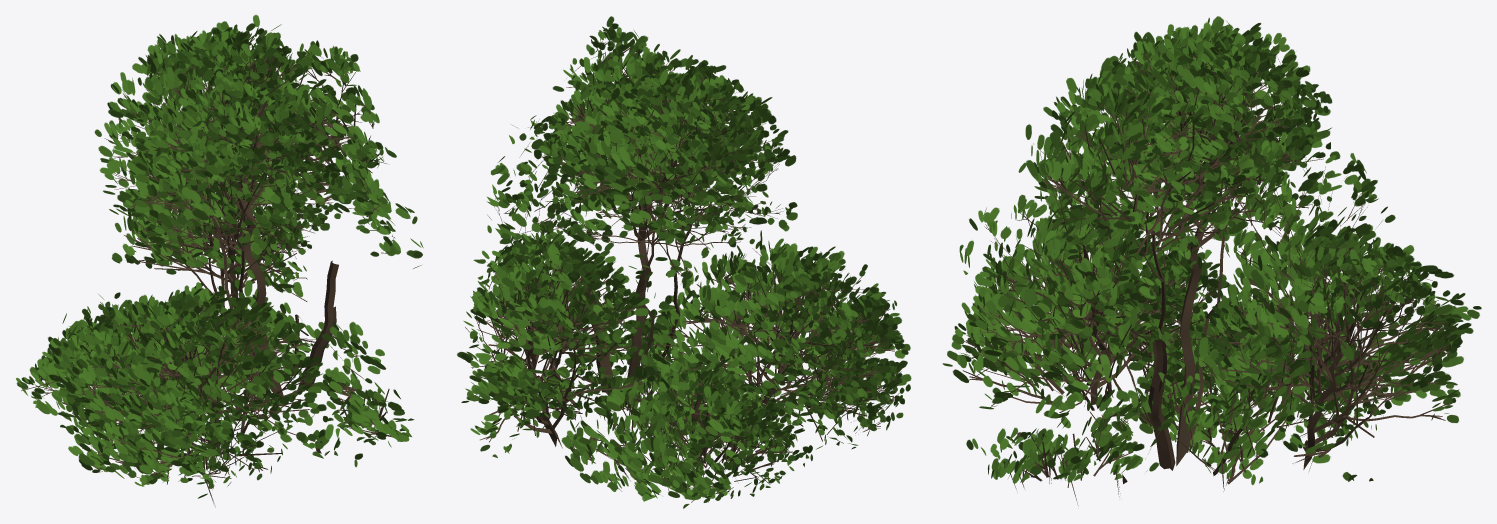
The picture shows the model from 3 angles, left to right: view 1: azimuth 30°, elevation 25°; view 2: azimuth 150°, elevation 25°; view 3: azimuth 270°, elevation 25°; orthographic projection. The views are drawn at different scales.
Parts seen in each view (by area): view 1: oak 01.001_trunk_Mat.001_0.455; view 2: oak 01.001_trunk_Mat.001_0.455; view 3: oak 01.001_trunk_Mat.001_0.455.
Part boxes in pixels (box(x1,y1,x2,y2)): oak 01.001_trunk_Mat.001_0.455: box(16, 14, 423, 507); oak 01.001_trunk_Mat.001_0.455: box(457, 16, 911, 508); oak 01.001_trunk_Mat.001_0.455: box(942, 16, 1481, 505).
Bounding box in the file's own units: 4.05 × 4.8 × 5.47.
2 materials, 1 textured.
